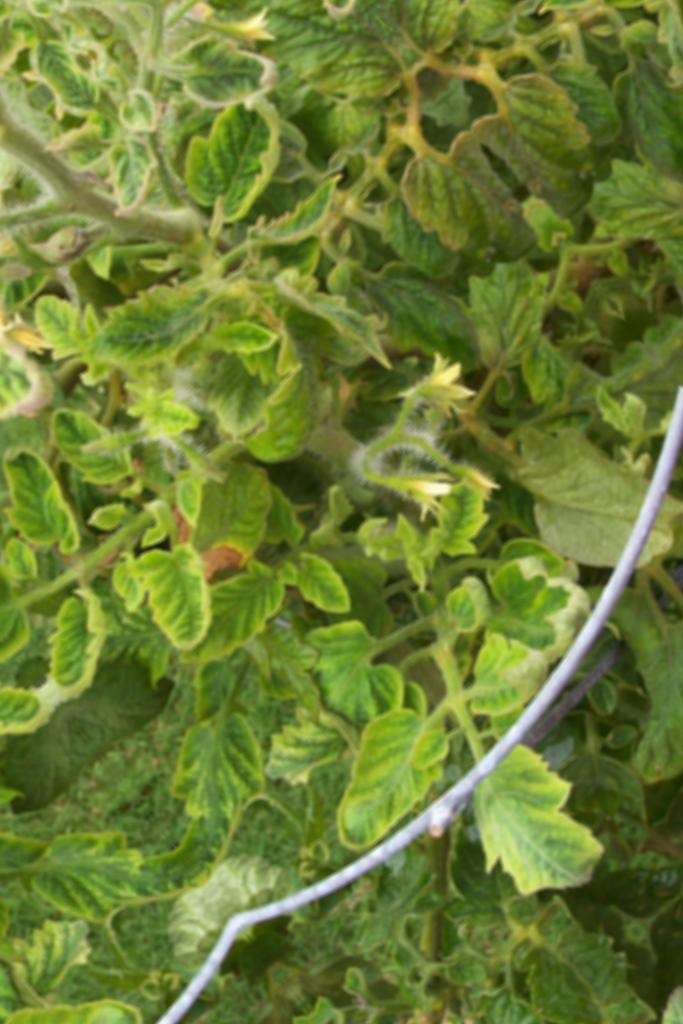Tomato leaf yellow virus: (413, 705, 630, 933), (48, 222, 252, 415), (287, 681, 474, 860), (147, 63, 322, 236), (83, 498, 254, 673), (131, 548, 301, 703), (177, 309, 322, 452), (8, 579, 151, 723), (430, 614, 570, 751), (0, 429, 106, 574), (8, 271, 123, 393), (33, 386, 142, 503), (261, 521, 369, 636), (391, 470, 502, 576), (678, 482, 683, 617)
